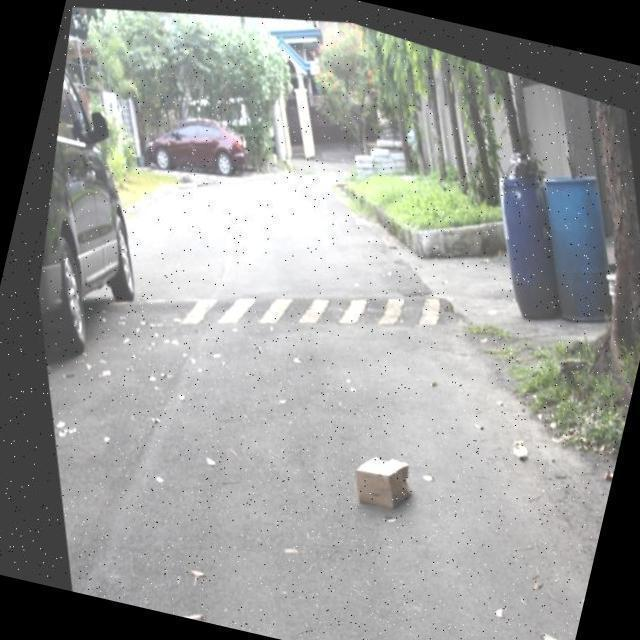Paper_Bag: (334, 432, 419, 514)
